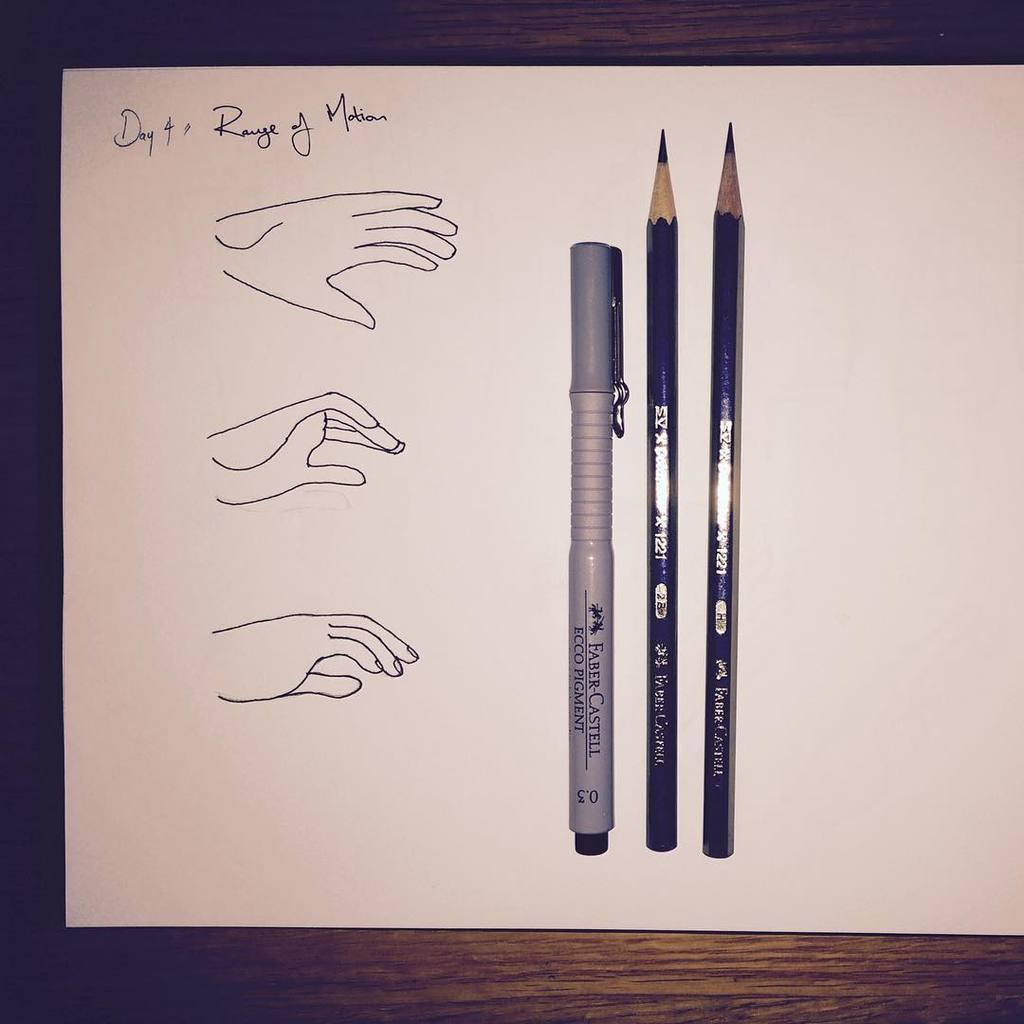pen: (563, 237, 631, 856)
